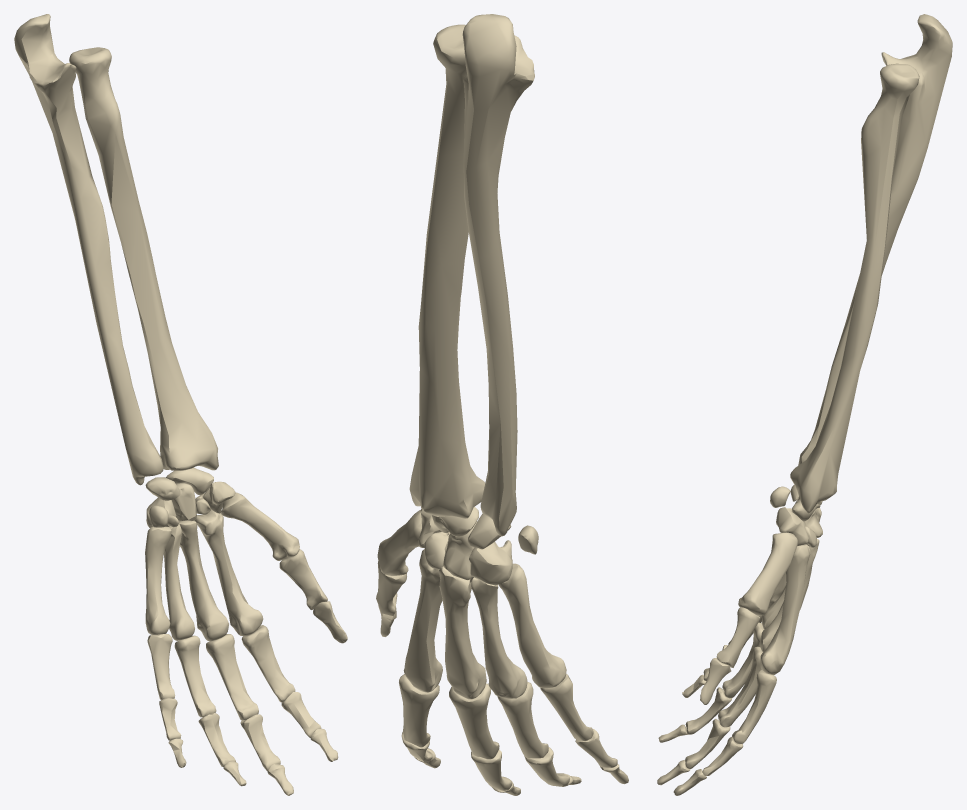
Rendered from handb.glb.
The picture shows the model from 3 angles, left to right: view 1: azimuth 30°, elevation 25°; view 2: azimuth 150°, elevation 25°; view 3: azimuth 270°, elevation 25°; orthographic projection. The views are drawn at different scales.
Parts seen in each view (by area): view 1: left radius, left ulna, left second metacarpal bone, left third metacarpal bone, left fifth metacarpal bone, left first metacarpal bone, left fourth metacarpal bone, proximal phalanx of left middle finger, proximal phalanx of left index finger, proximal phalanx of left ring finger, proximal phalanx of left thumb, proximal phalanx of left little finger (+9 smaller); view 2: left radius, left ulna, left third metacarpal bone, left second metacarpal bone, left fifth metacarpal bone, left fourth metacarpal bone, proximal phalanx of left middle finger, proximal phalanx of left ring finger, proximal phalanx of left index finger, left first metacarpal bone, left hamate, proximal phalanx of left little finger (+9 smaller); view 3: left radius, left ulna, left second metacarpal bone, left first metacarpal bone, proximal phalanx of left index finger, proximal phalanx of left middle finger, proximal phalanx of left thumb, proximal phalanx of left ring finger, left third metacarpal bone, left trapezium, middle phalanx of left middle finger, middle phalanx of left ring finger (+2 smaller).
Boxes of the visible parts, x1,y1,x2,y2 form: left radius: (69, 47, 218, 470); left ulna: (14, 14, 163, 485); left second metacarpal bone: (194, 509, 263, 636); left third metacarpal bone: (178, 520, 228, 641); left fifth metacarpal bone: (145, 526, 171, 634); left first metacarpal bone: (221, 492, 299, 560); left fourth metacarpal bone: (164, 524, 194, 640); proximal phalanx of left middle finger: (206, 634, 258, 720); proximal phalanx of left index finger: (241, 625, 295, 702); proximal phalanx of left ring finger: (174, 635, 216, 717); proximal phalanx of left thumb: (279, 549, 327, 609); proximal phalanx of left little finger: (147, 634, 175, 700); left radius: (409, 24, 485, 518); left ulna: (462, 14, 534, 536); left third metacarpal bone: (439, 566, 486, 699); left second metacarpal bone: (403, 549, 442, 692); left fifth metacarpal bone: (498, 563, 566, 688); left fourth metacarpal bone: (471, 577, 527, 698); proximal phalanx of left middle finger: (449, 683, 499, 759); proximal phalanx of left ring finger: (497, 681, 548, 758); proximal phalanx of left index finger: (399, 674, 439, 747); left first metacarpal bone: (377, 510, 421, 575); left hamate: (469, 540, 512, 585); proximal phalanx of left little finger: (540, 674, 593, 741); left radius: (790, 63, 919, 513); left ulna: (798, 14, 952, 465); left second metacarpal bone: (760, 544, 810, 674); left first metacarpal bone: (738, 532, 797, 615); proximal phalanx of left index finger: (732, 669, 776, 743); proximal phalanx of left middle finger: (718, 646, 762, 727); proximal phalanx of left thumb: (716, 607, 759, 667); proximal phalanx of left ring finger: (722, 622, 764, 698); left third metacarpal bone: (760, 539, 819, 651); left trapezium: (776, 507, 808, 545); middle phalanx of left middle finger: (685, 718, 730, 768); middle phalanx of left ring finger: (685, 687, 732, 734).
Bounding box in the file's own units: 0.127 × 0.3991 × 0.1505.
